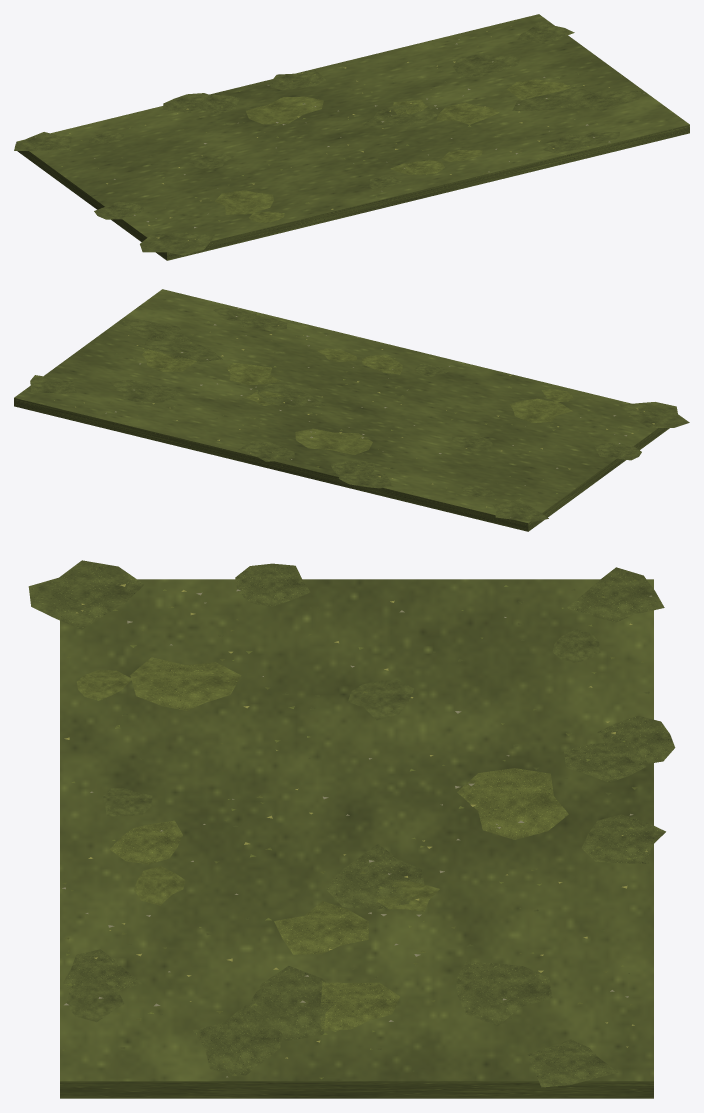
Rendered from ground-patch-3.fbx.
3 renders of one model, top to bottom at view 1: azimuth 30°, elevation 25°; view 2: azimuth 150°, elevation 25°; view 3: azimuth 270°, elevation 25°, orthographic. The views are drawn at different scales.
Visible parts, largest first — view 1: ground-patch-3__Geometry; view 2: ground-patch-3__Geometry; view 3: ground-patch-3__Geometry.
Boxes of the visible parts, left/top/right/bottom form: ground-patch-3__Geometry: left=14, top=14, right=689, bottom=260; ground-patch-3__Geometry: left=14, top=289, right=689, bottom=531; ground-patch-3__Geometry: left=28, top=560, right=675, bottom=1098.
Bounding box in the file's own units: 10.5 × 0.171 × 5.44.
Materials: 1 (1 with a texture image).
